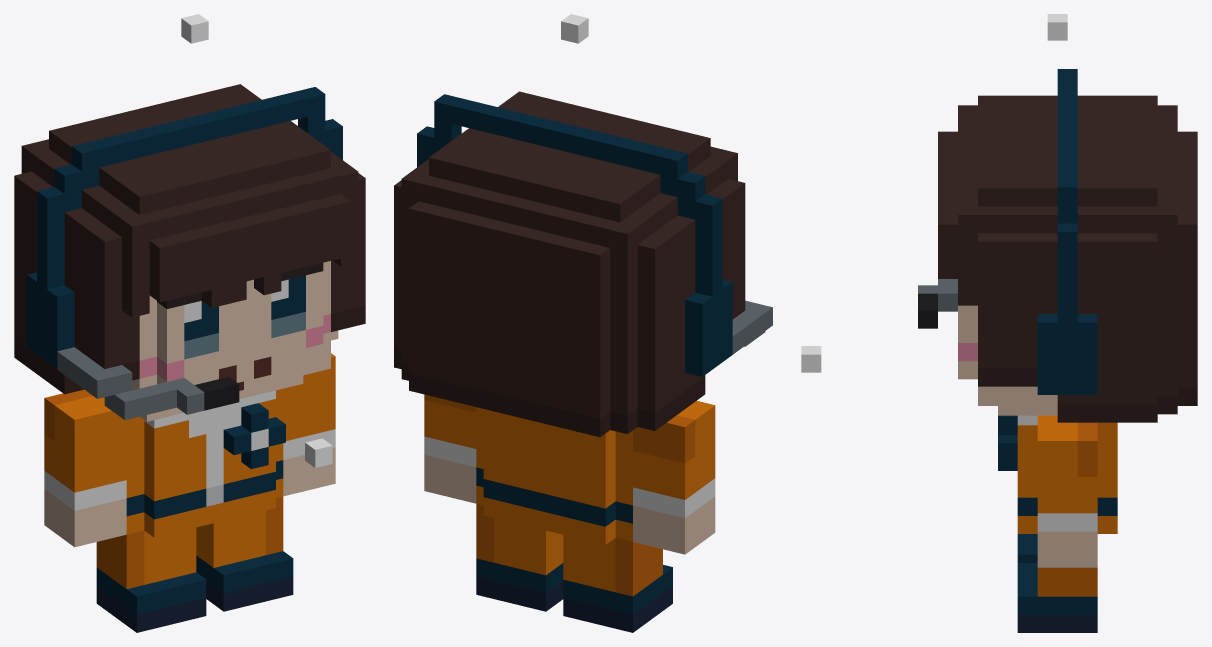
File: Char_Haruto.fbx
3 renders of one model, left to right at view 1: azimuth 30°, elevation 25°; view 2: azimuth 150°, elevation 25°; view 3: azimuth 270°, elevation 25°, orthographic.
Visible parts, largest first — view 1: Head, Torso, ArmR, LegR, LegL, ArmL, TopMarker, FrontMarker; view 2: Head, Torso, ArmR, LegR, LegL, ArmL, TopMarker; view 3: Head, ArmL, Torso, LegL, LegR, FrontMarker, TopMarker.
Part boxes in pixels (<box>): Head: <box>14,84,365,421</box>; Torso: <box>126,389,285,537</box>; ArmR: <box>44,389,126,547</box>; LegR: <box>96,527,206,632</box>; LegL: <box>196,496,293,611</box>; ArmL: <box>283,353,335,496</box>; TopMarker: <box>181,14,208,43</box>; FrontMarker: <box>305,438,332,467</box>; Head: <box>394,91,772,437</box>; Torso: <box>476,407,632,544</box>; ArmR: <box>633,400,715,554</box>; LegR: <box>563,535,672,632</box>; LegL: <box>476,504,563,611</box>; ArmL: <box>424,394,476,503</box>; TopMarker: <box>561,14,588,43</box>; Head: <box>918,69,1197,422</box>; ArmL: <box>1037,415,1097,567</box>; Torso: <box>998,415,1117,533</box>; LegL: <box>1017,563,1097,632</box>; LegR: <box>1017,534,1037,562</box>; FrontMarker: <box>801,346,821,372</box>; TopMarker: <box>1047,14,1067,40</box>.
Bounding box in the file's own units: 3.19 × 5.97 × 3.72.
